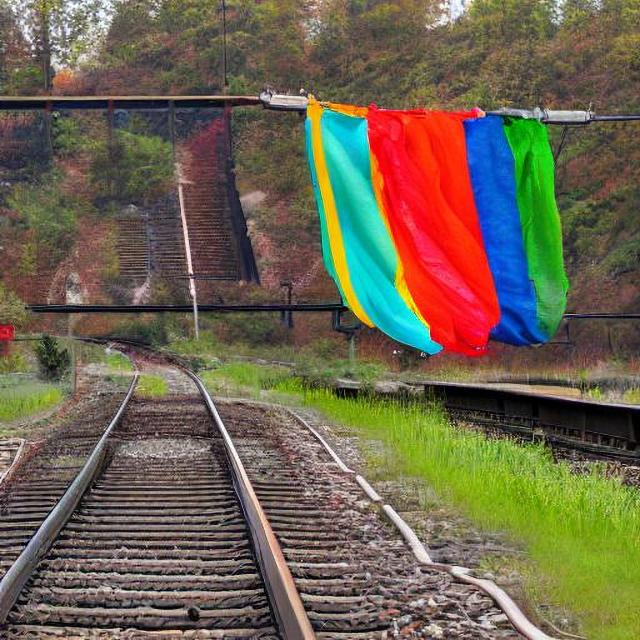floating object: (278, 94, 577, 364)
